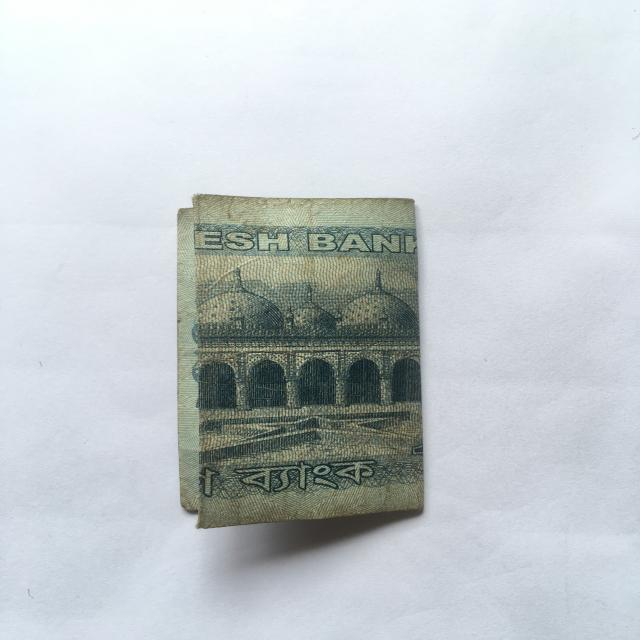Taka: (176, 184, 425, 533)
